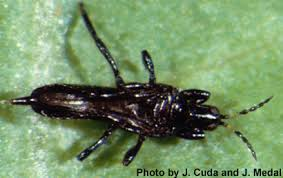Phlaeothripidae: (5, 1, 273, 167)
